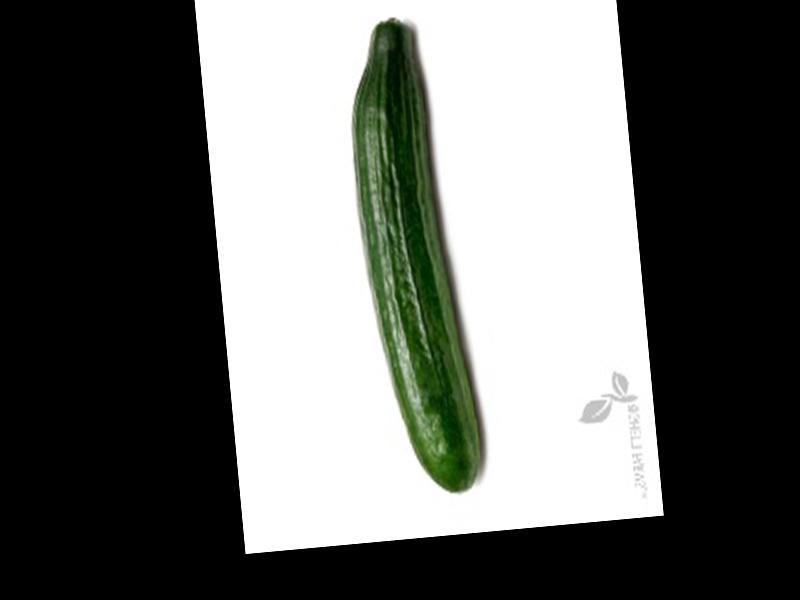Cucumber: (341, 13, 485, 501)
